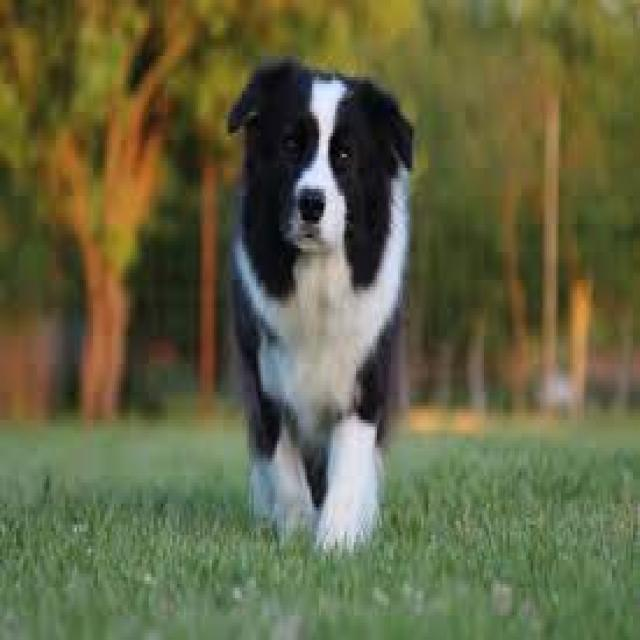BORDER_COLLIE: (194, 48, 438, 567)
